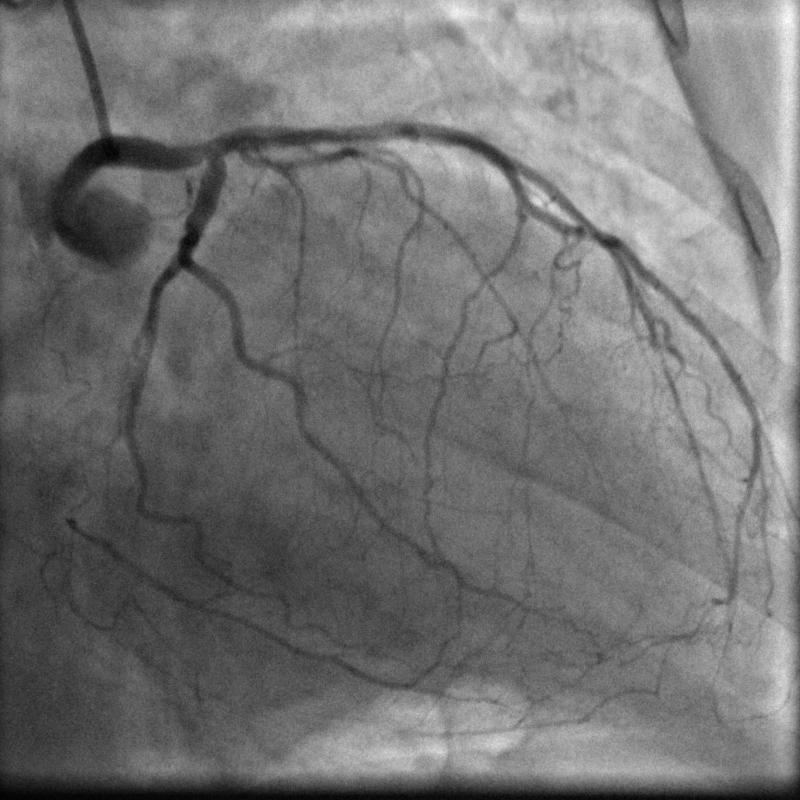Stenosis: (326, 121, 408, 139)
